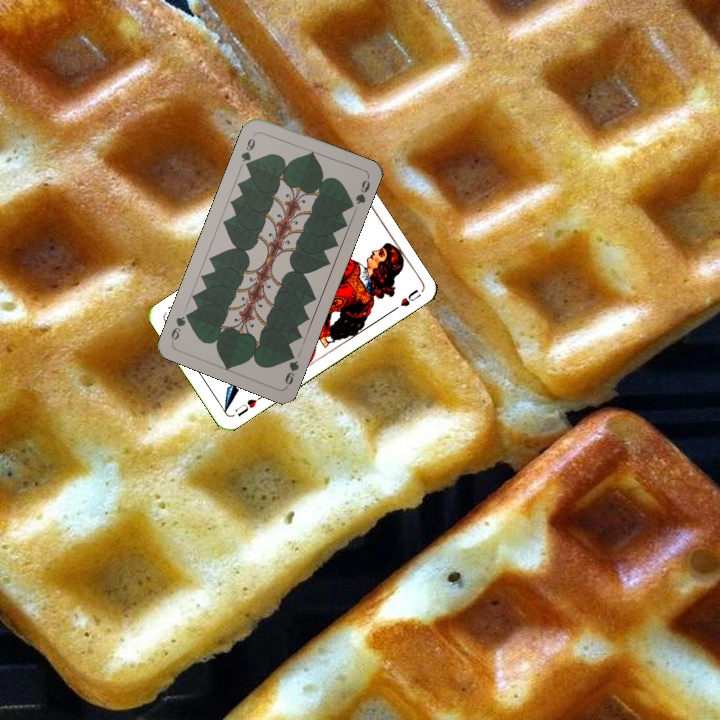G9: (281, 347, 302, 389), (237, 130, 258, 171)
HU: (231, 392, 265, 419)
